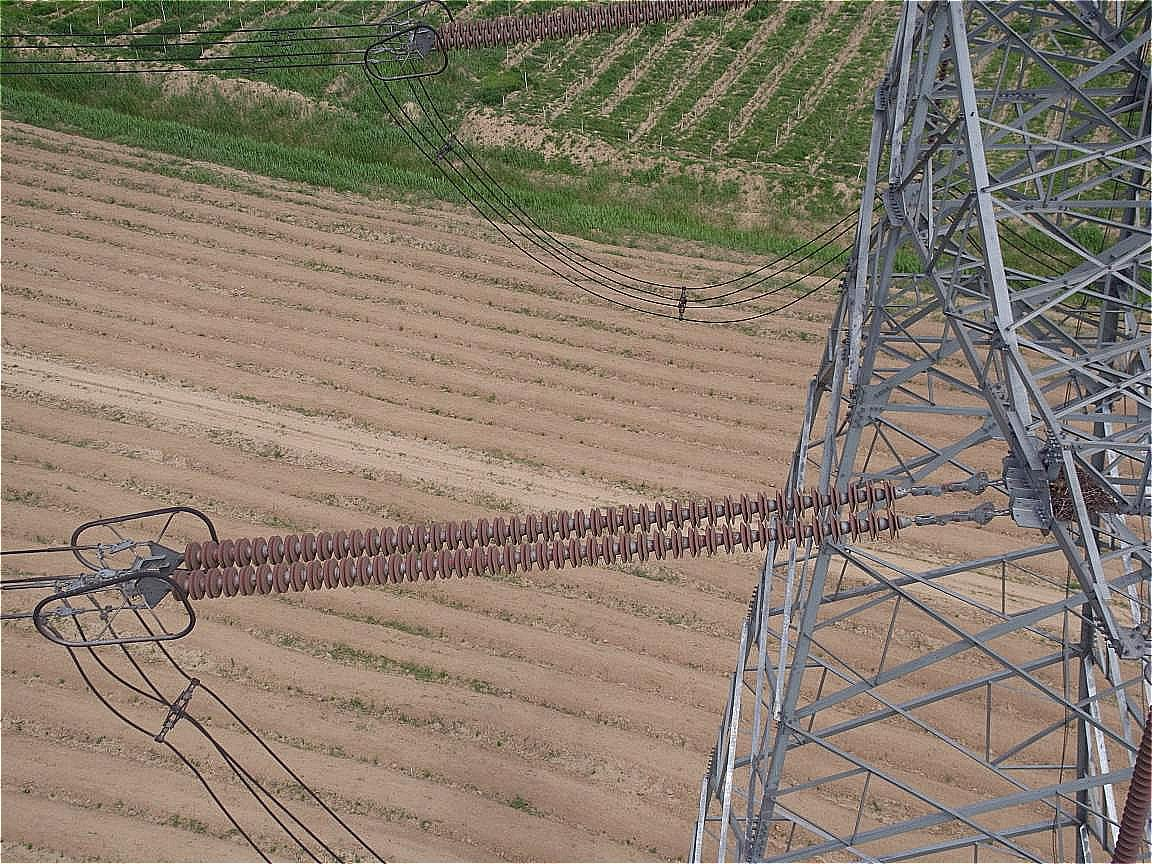insultor2: (169, 479, 902, 603)
